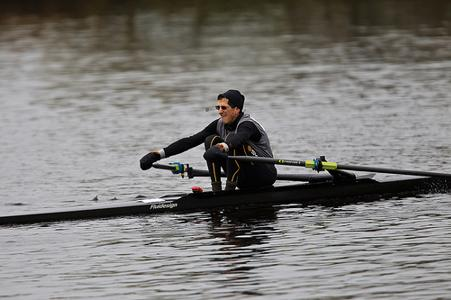person: (139, 89, 280, 195)
